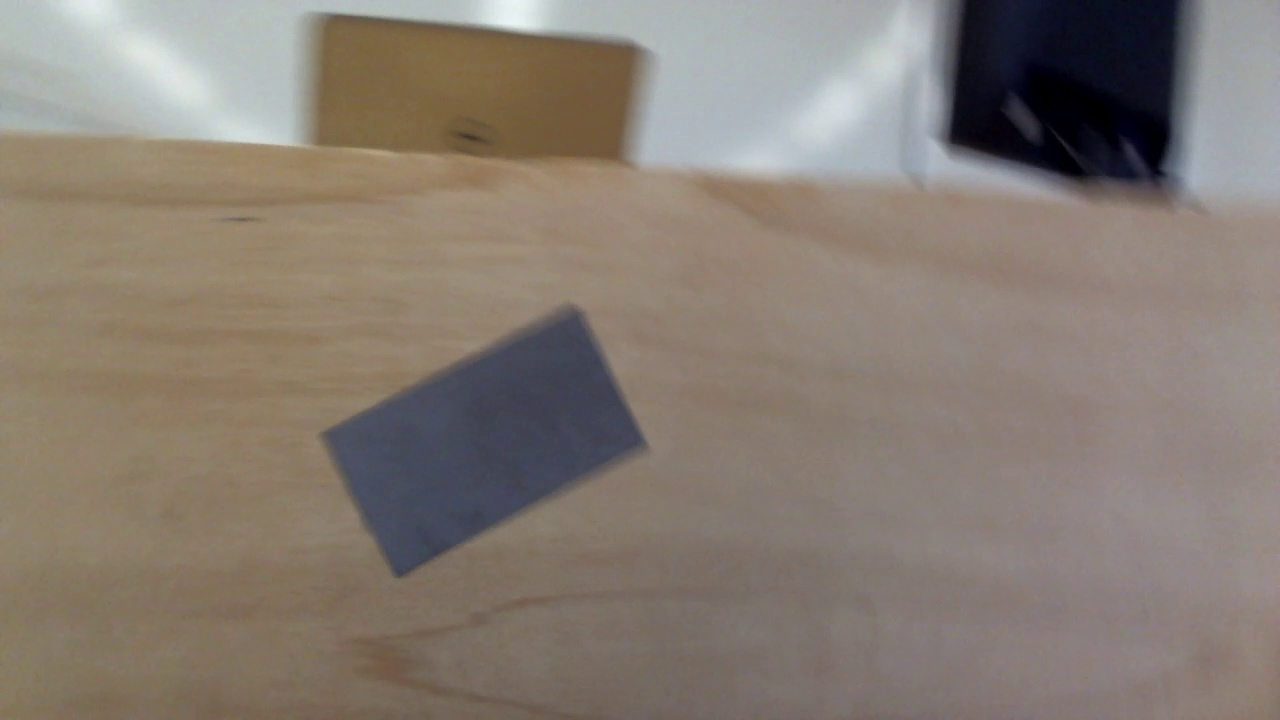Tape: (318, 307, 648, 582)
